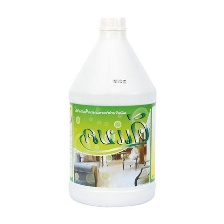cleaning_solution: (65, 14, 159, 209)
